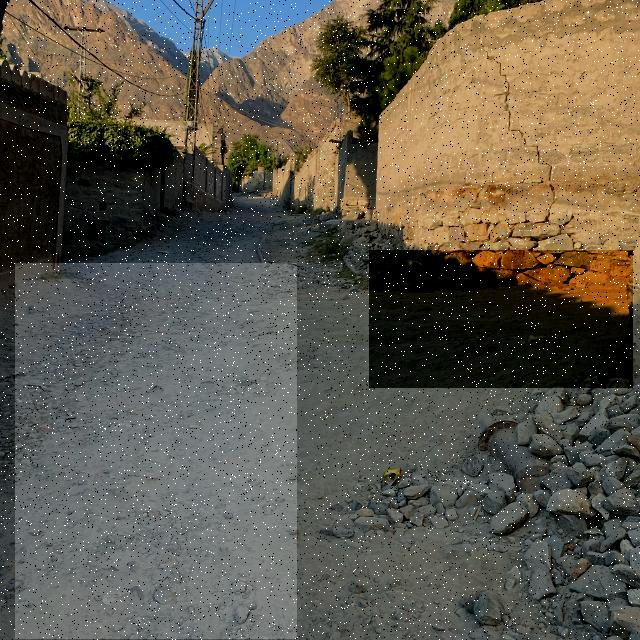right: (370, 250, 634, 388)
straight: (15, 264, 297, 640)
